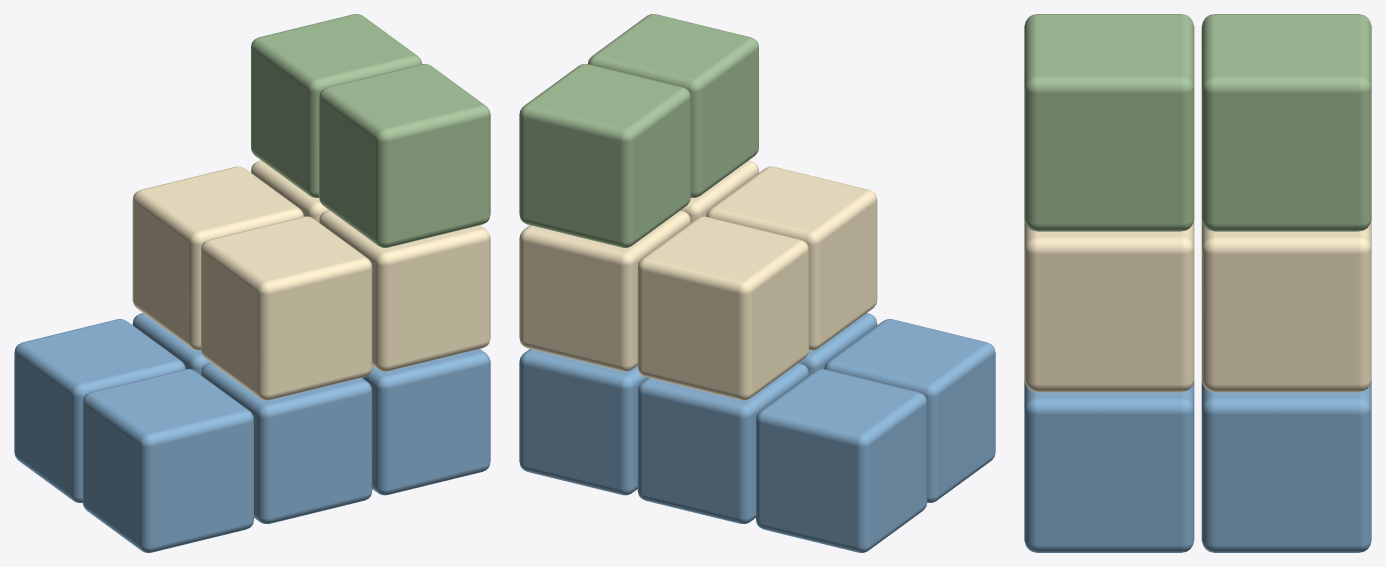
File: floating-stairs.glb
3 views of the same model, side by side, from view 1: azimuth 30°, elevation 25°; view 2: azimuth 150°, elevation 25°; view 3: azimuth 270°, elevation 25° (orthographic). The views are drawn at different scales.
Visible parts, largest first — view 1: floating-stairs-cell-8, floating-stairs-cell-3, floating-stairs-cell-11, floating-stairs-cell-9, floating-stairs-cell-4, floating-stairs-cell-6, floating-stairs-cell-0, floating-stairs-cell-10, floating-stairs-cell-5, floating-stairs-cell-1, floating-stairs-cell-7; view 2: floating-stairs-cell-6, floating-stairs-cell-0, floating-stairs-cell-10, floating-stairs-cell-7, floating-stairs-cell-1, floating-stairs-cell-8, floating-stairs-cell-3, floating-stairs-cell-11, floating-stairs-cell-2, floating-stairs-cell-4, floating-stairs-cell-9; view 3: floating-stairs-cell-10, floating-stairs-cell-11, floating-stairs-cell-7, floating-stairs-cell-9, floating-stairs-cell-2, floating-stairs-cell-5.
Part boxes in pixels (left/top/right/bottom): floating-stairs-cell-8: left=201, top=216, right=372, bottom=400; floating-stairs-cell-3: left=82, top=369, right=253, bottom=552; floating-stairs-cell-11: left=319, top=64, right=490, bottom=247; floating-stairs-cell-9: left=319, top=210, right=490, bottom=371; floating-stairs-cell-4: left=201, top=363, right=372, bottom=523; floating-stairs-cell-6: left=132, top=166, right=303, bottom=350; floating-stairs-cell-0: left=14, top=319, right=185, bottom=502; floating-stairs-cell-10: left=251, top=14, right=421, bottom=197; floating-stairs-cell-5: left=362, top=349, right=490, bottom=495; floating-stairs-cell-1: left=132, top=313, right=210, bottom=374; floating-stairs-cell-7: left=251, top=160, right=328, bottom=222; floating-stairs-cell-6: left=637, top=216, right=808, bottom=400; floating-stairs-cell-0: left=756, top=369, right=927, bottom=552; floating-stairs-cell-10: left=519, top=64, right=690, bottom=247; floating-stairs-cell-7: left=519, top=210, right=690, bottom=371; floating-stairs-cell-1: left=637, top=363, right=808, bottom=523; floating-stairs-cell-8: left=706, top=166, right=877, bottom=350; floating-stairs-cell-3: left=824, top=319, right=995, bottom=502; floating-stairs-cell-11: left=588, top=14, right=758, bottom=197; floating-stairs-cell-2: left=519, top=349, right=647, bottom=495; floating-stairs-cell-4: left=799, top=313, right=877, bottom=374; floating-stairs-cell-9: left=681, top=160, right=758, bottom=222; floating-stairs-cell-10: left=1201, top=14, right=1371, bottom=231; floating-stairs-cell-11: left=1024, top=14, right=1194, bottom=231; floating-stairs-cell-7: left=1201, top=219, right=1371, bottom=392; floating-stairs-cell-9: left=1024, top=219, right=1194, bottom=392; floating-stairs-cell-2: left=1201, top=380, right=1371, bottom=552; floating-stairs-cell-5: left=1024, top=380, right=1194, bottom=552.
Bounding box in the file's own units: 2.96 × 2.96 × 1.96.
